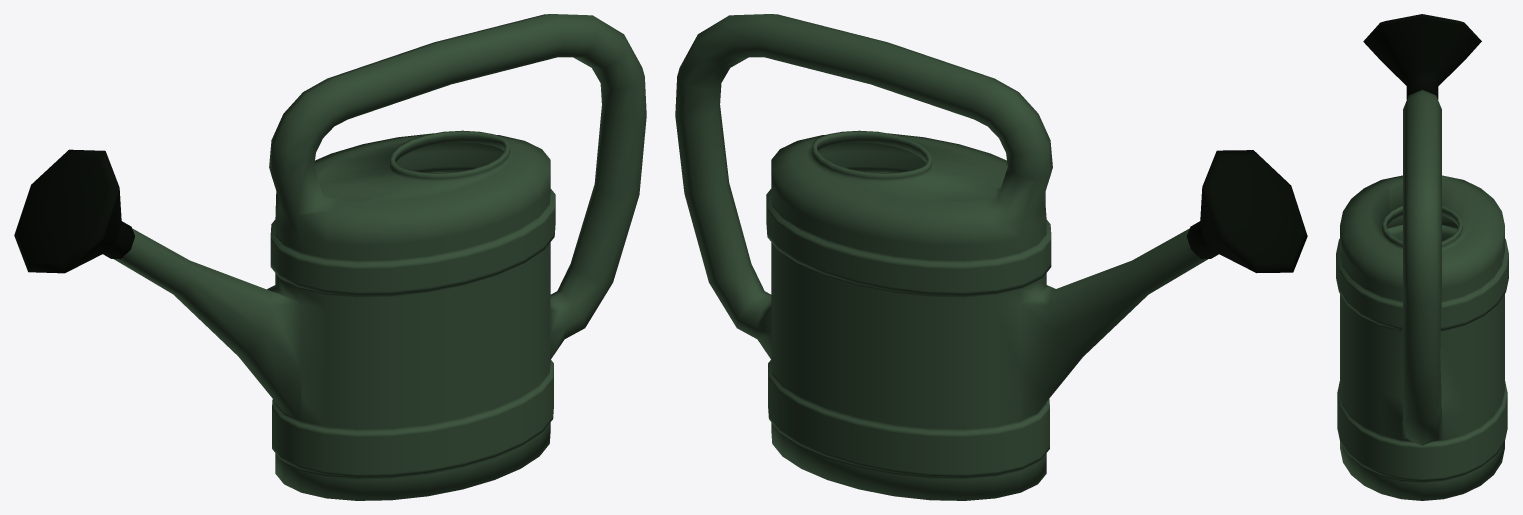
The model's file is лейка.fbx.
3 views of the same model, side by side, from view 1: azimuth 30°, elevation 25°; view 2: azimuth 150°, elevation 25°; view 3: azimuth 270°, elevation 25° (orthographic). The views are drawn at different scales.
Parts seen in each view (by area): view 1: Cylinder.004; view 2: Cylinder.004; view 3: Cylinder.004.
Part boxes in pixels (left/top/right/bottom): Cylinder.004: left=14, top=14, right=646, bottom=500; Cylinder.004: left=675, top=14, right=1307, bottom=500; Cylinder.004: left=1336, top=14, right=1508, bottom=500.
Size of the model in its own units: 47.33 by 29.71 by 13.97.
